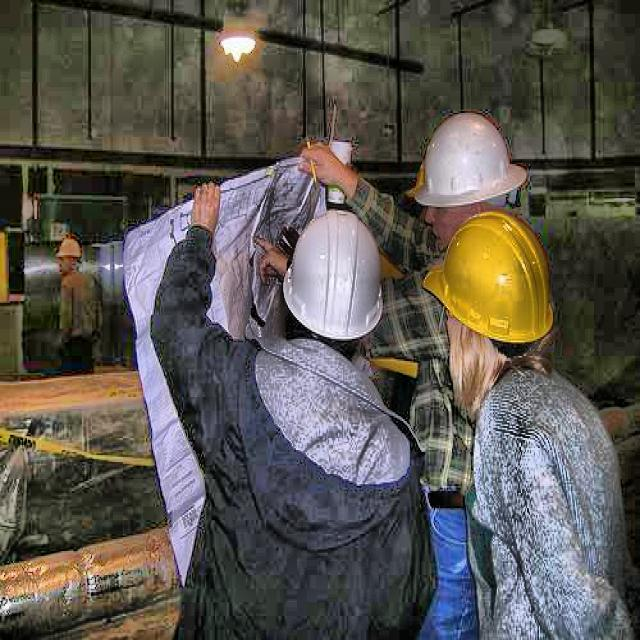helmet: (424, 212, 556, 389), (283, 202, 384, 358), (416, 110, 524, 252)
